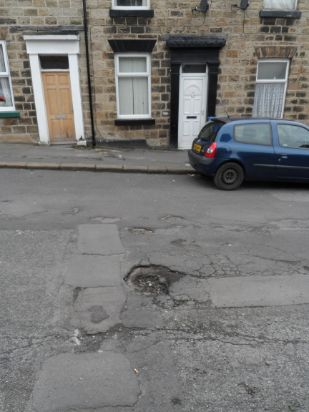pothole: (119, 257, 188, 306)
